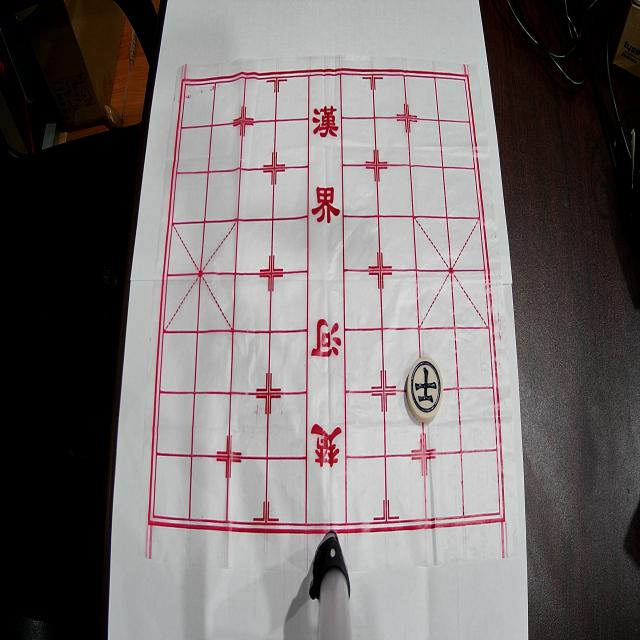black-guard: (406, 357, 444, 422)
